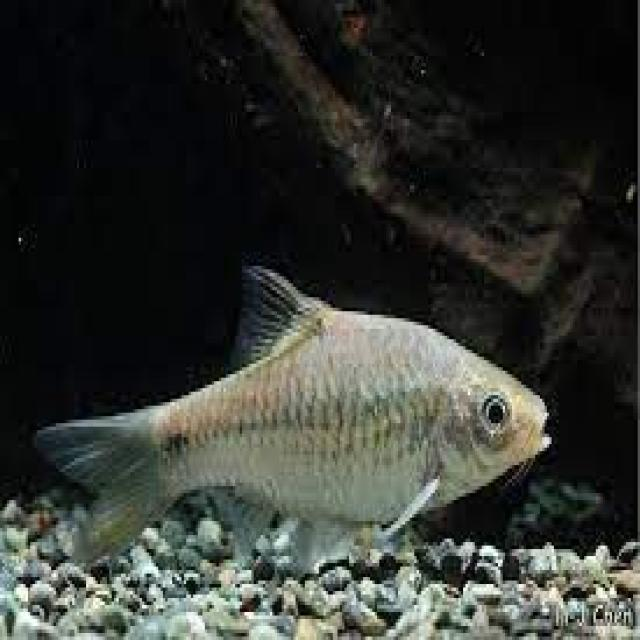Black-Spotted-Barb: (25, 223, 578, 578)
